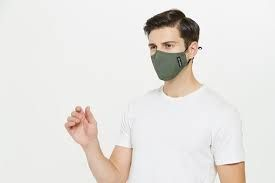with-mask: (144, 16, 201, 84)
